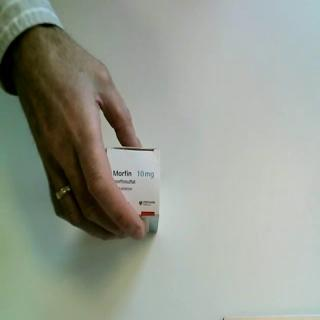morfin10mg: (105, 145, 163, 235)
